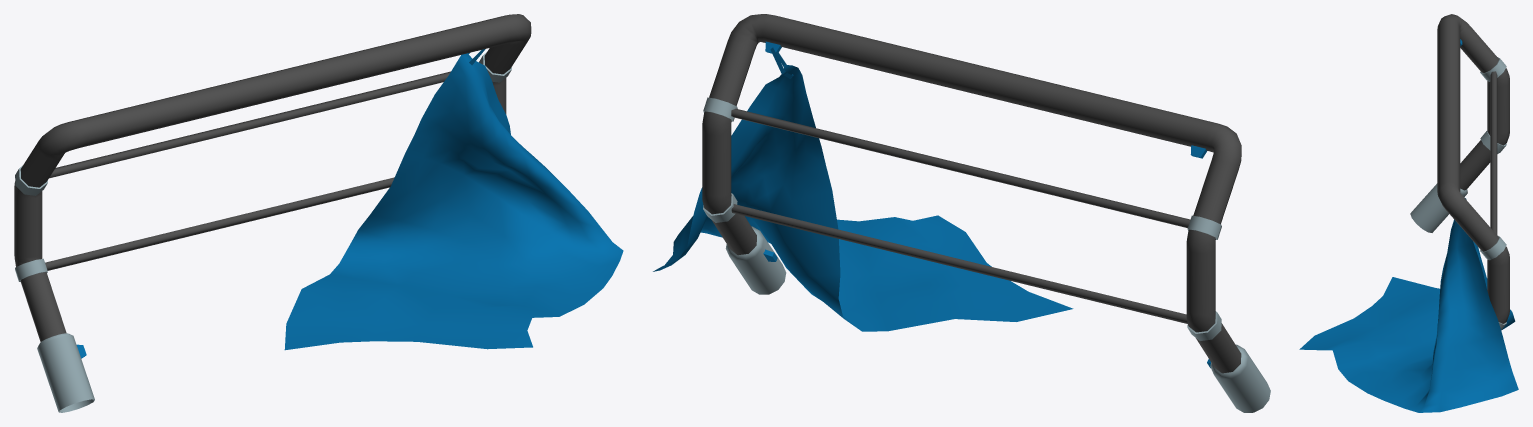
File: env_building_warehouse01fence01A_lod0.fbx
3 renders of one model, left to right at view 1: azimuth 30°, elevation 25°; view 2: azimuth 150°, elevation 25°; view 3: azimuth 270°, elevation 25°, orthographic. The views are drawn at different scales.
Parts seen in each view (by area): view 1: env_building_warehouse01fence01A_lod0; view 2: env_building_warehouse01fence01A_lod0; view 3: env_building_warehouse01fence01A_lod0.
Part boxes in pixels (x1=…): env_building_warehouse01fence01A_lod0: x1=14, y1=14, x2=623, y2=412; env_building_warehouse01fence01A_lod0: x1=653, y1=14, x2=1270, y2=412; env_building_warehouse01fence01A_lod0: x1=1299, y1=14, x2=1518, y2=412.
Bounding box in the file's own units: 69.86 × 33.23 × 30.04.
